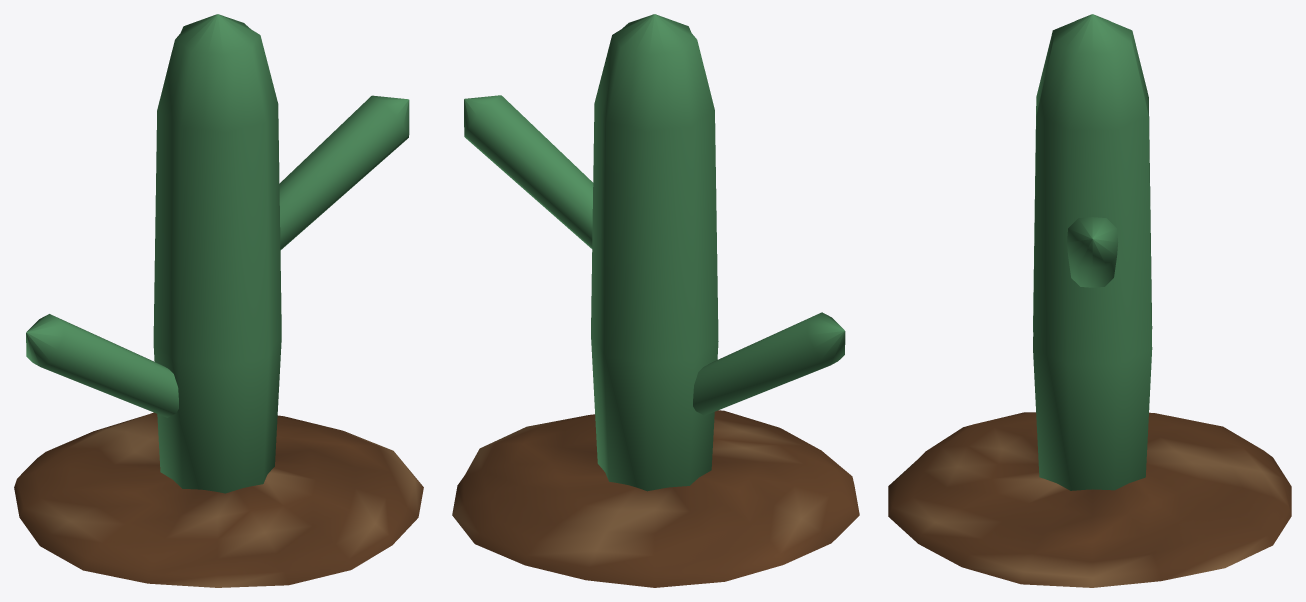
Rendered from plant-dragon-4.gltf.
3 views of the same model, side by side, from view 1: azimuth 30°, elevation 25°; view 2: azimuth 150°, elevation 25°; view 3: azimuth 270°, elevation 25° (orthographic).
Bounding box in the file's own units: 1.38 × 1.68 × 1.26.
